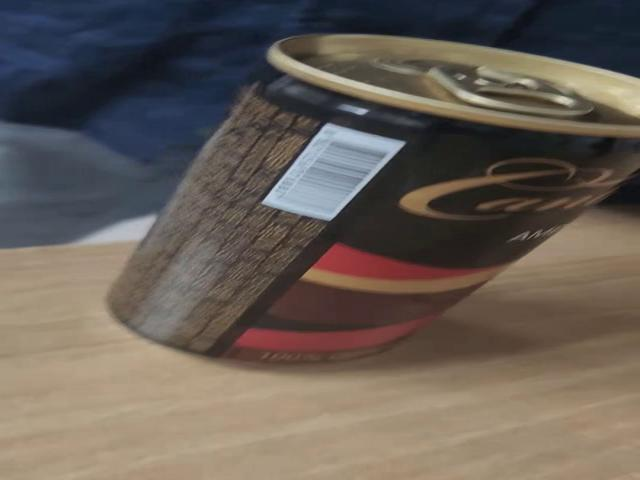Canned_drinks: (92, 26, 640, 368)
